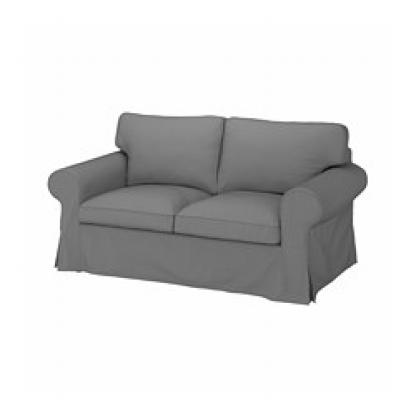Sofa: (42, 93, 371, 313)
